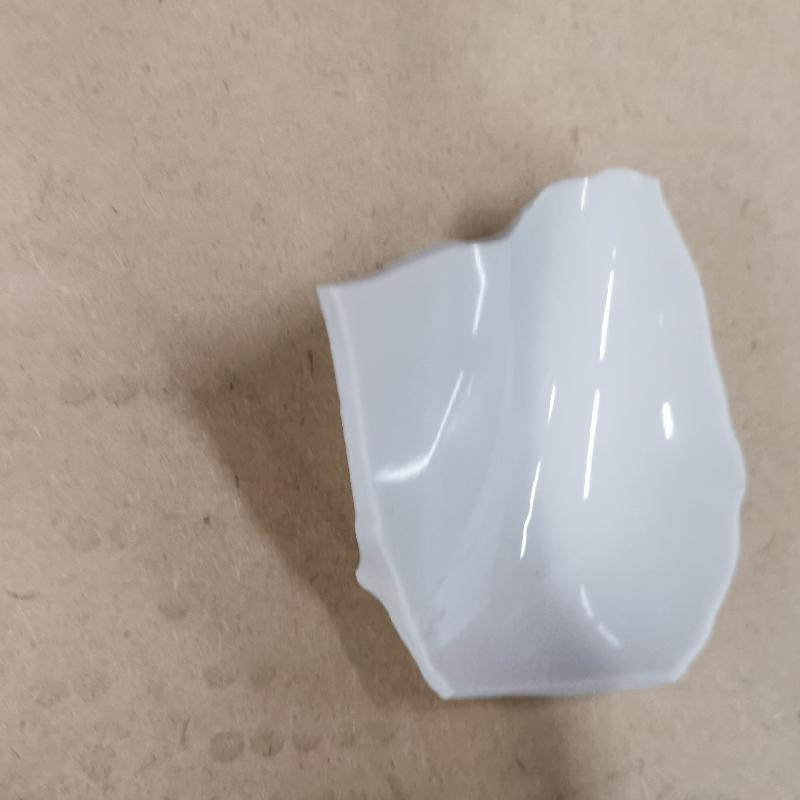ceram: (309, 167, 751, 700)
